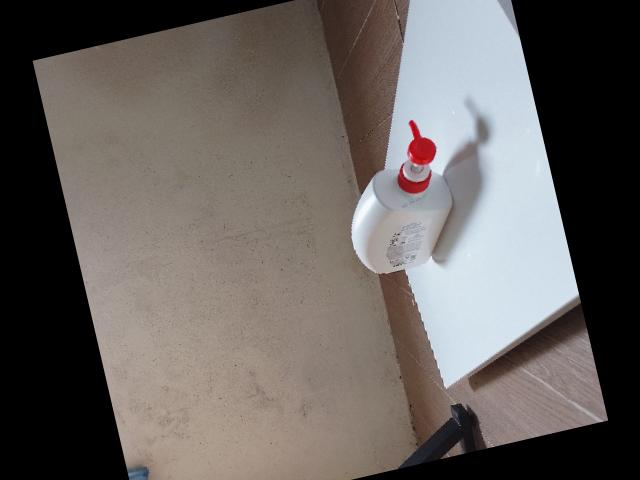life-buoy: (351, 119, 453, 273)
